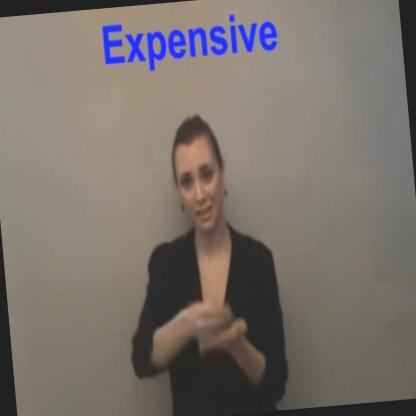Expensive: (171, 285, 248, 375)
